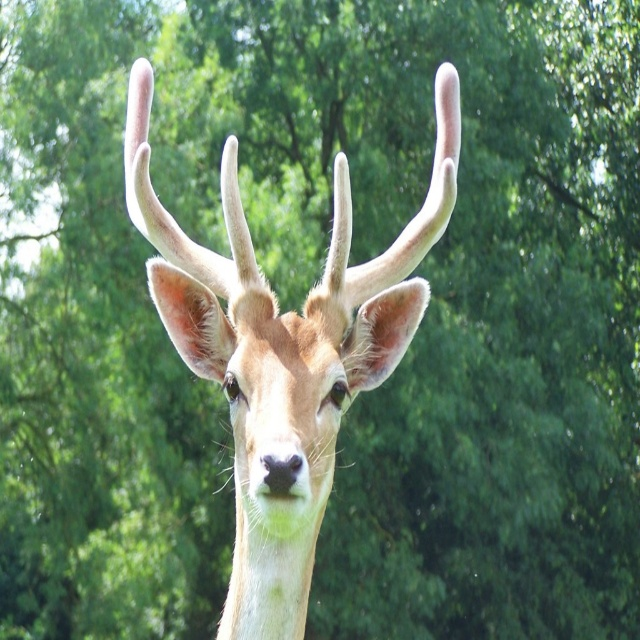Deer: (124, 57, 462, 640)
